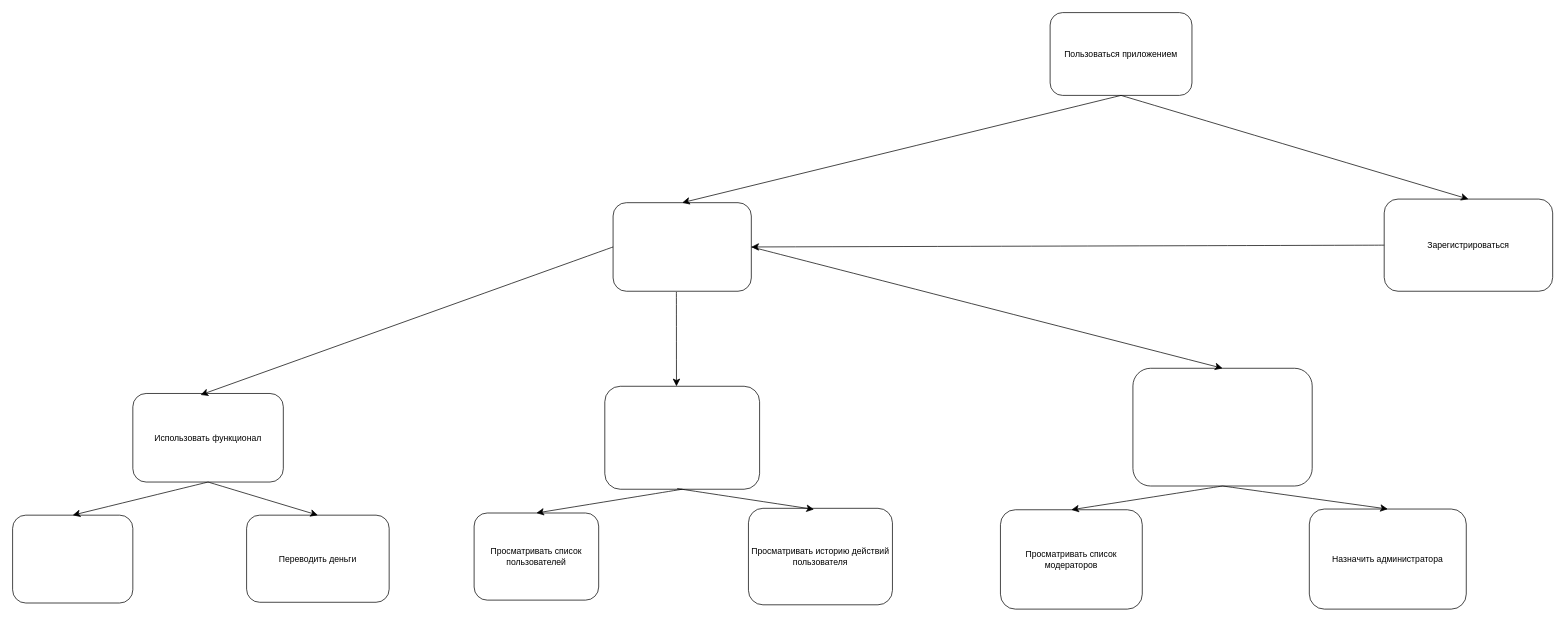
The diagram is 1565 pixels wide and 622 high, and some of its shapes have lost their labels. The centre of each missing label's shape, as x and y in pixels:
"Администрировать" goes at point (1222, 427).
"Аутентифицироваться" goes at point (681, 246).
"Модерировать" goes at point (682, 437).
"Пополнять баланс" goes at point (72, 558).
